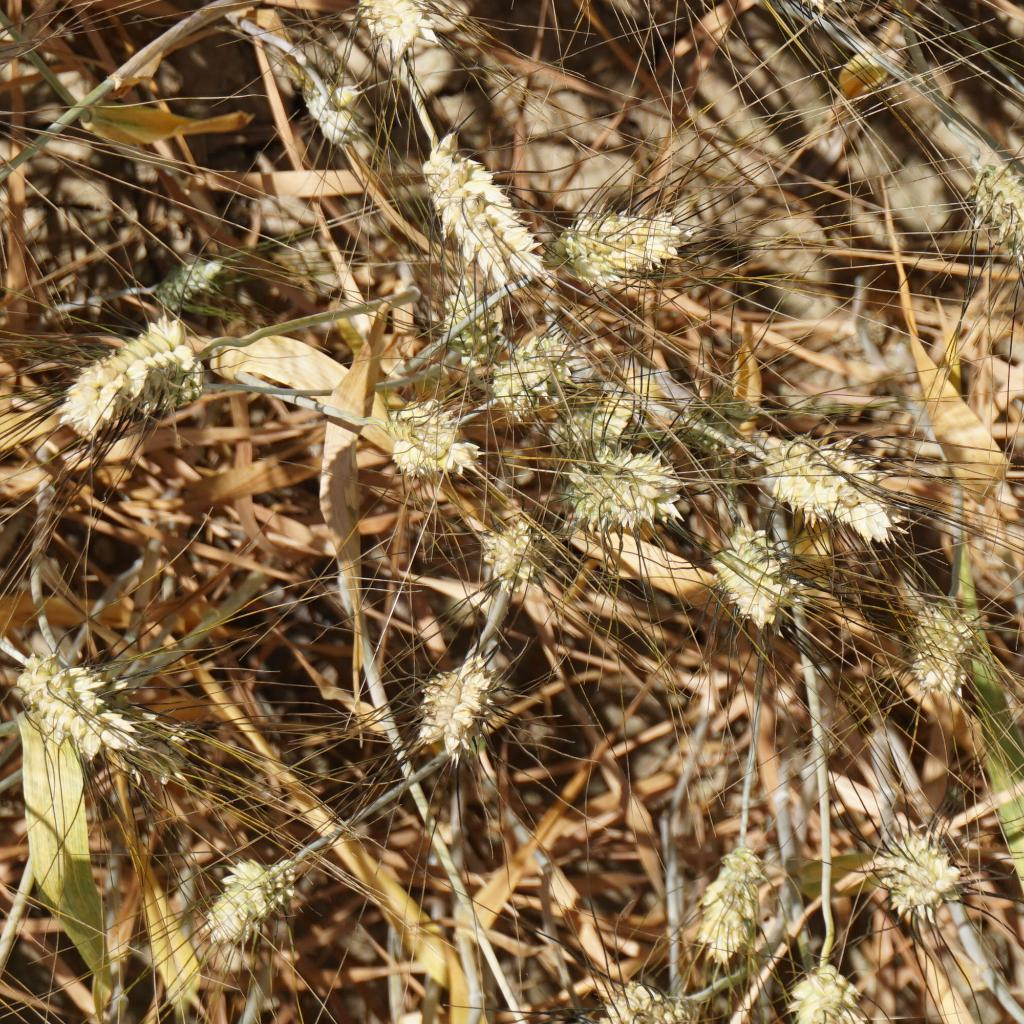0-0: (401, 118, 541, 283), (746, 415, 911, 537), (57, 313, 214, 441), (553, 429, 700, 545), (13, 642, 153, 750), (856, 815, 984, 925), (561, 188, 693, 289), (395, 642, 498, 754), (913, 592, 994, 710), (480, 326, 581, 415), (705, 518, 789, 624), (200, 840, 295, 929), (775, 939, 874, 1024), (299, 51, 388, 141), (970, 159, 1024, 305), (702, 848, 777, 949), (592, 968, 711, 1024), (152, 243, 243, 312), (439, 281, 512, 362), (391, 390, 466, 464), (356, 0, 464, 49), (476, 505, 535, 592)
